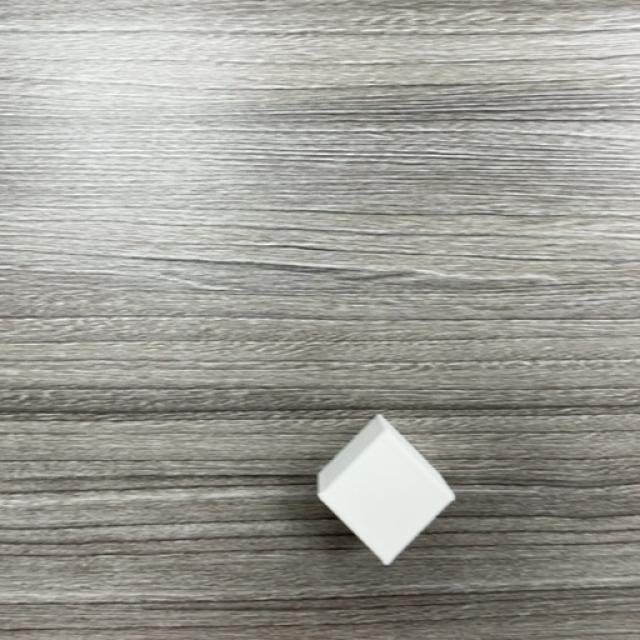Blanco: (316, 415, 455, 568)
